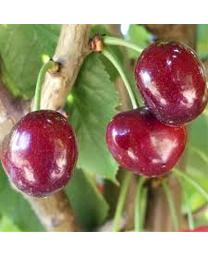cherry: (3, 109, 78, 199), (133, 40, 206, 125), (104, 107, 189, 176)
